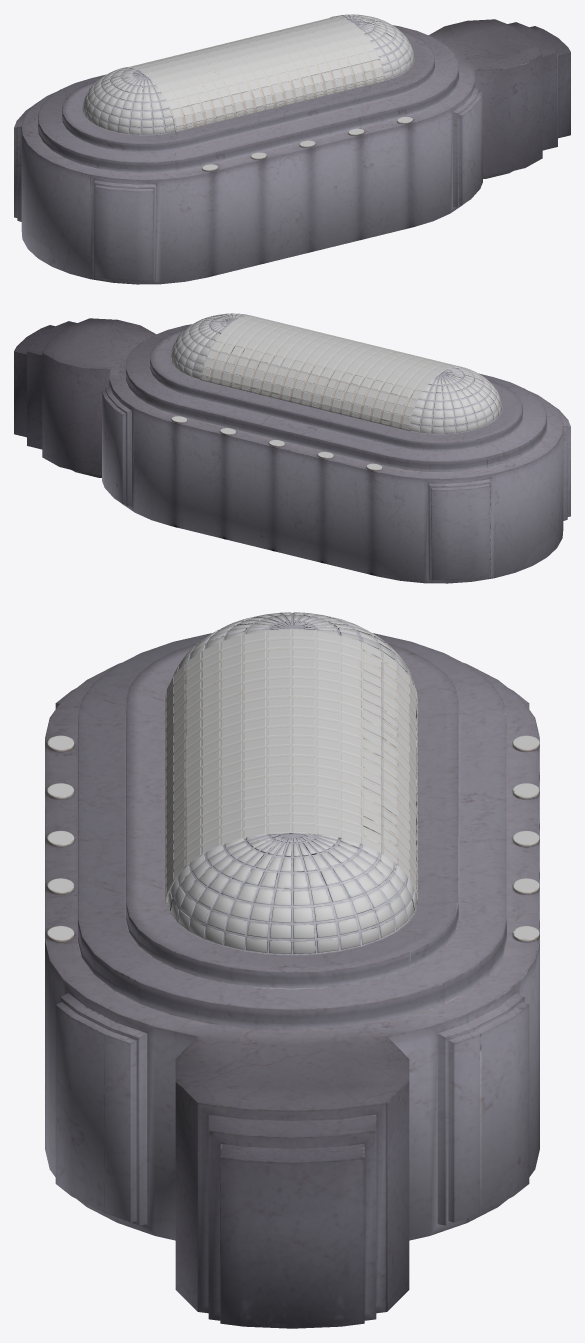
The model's file is Bathhouse.fbx.
3 renders of one model, top to bottom at view 1: azimuth 30°, elevation 25°; view 2: azimuth 150°, elevation 25°; view 3: azimuth 270°, elevation 25°, orthographic. The views are drawn at different scales.
Parts seen in each view (by area): view 1: Bathhouse; view 2: Bathhouse; view 3: Bathhouse.
Boxes of the visible parts, x1,y1,x2,y2 form: Bathhouse: (14,14,570,284); Bathhouse: (14,313,570,583); Bathhouse: (45,612,539,1328).
Bounding box in the file's own units: 3871 × 1193 × 1595.
2 materials, 1 textured.
